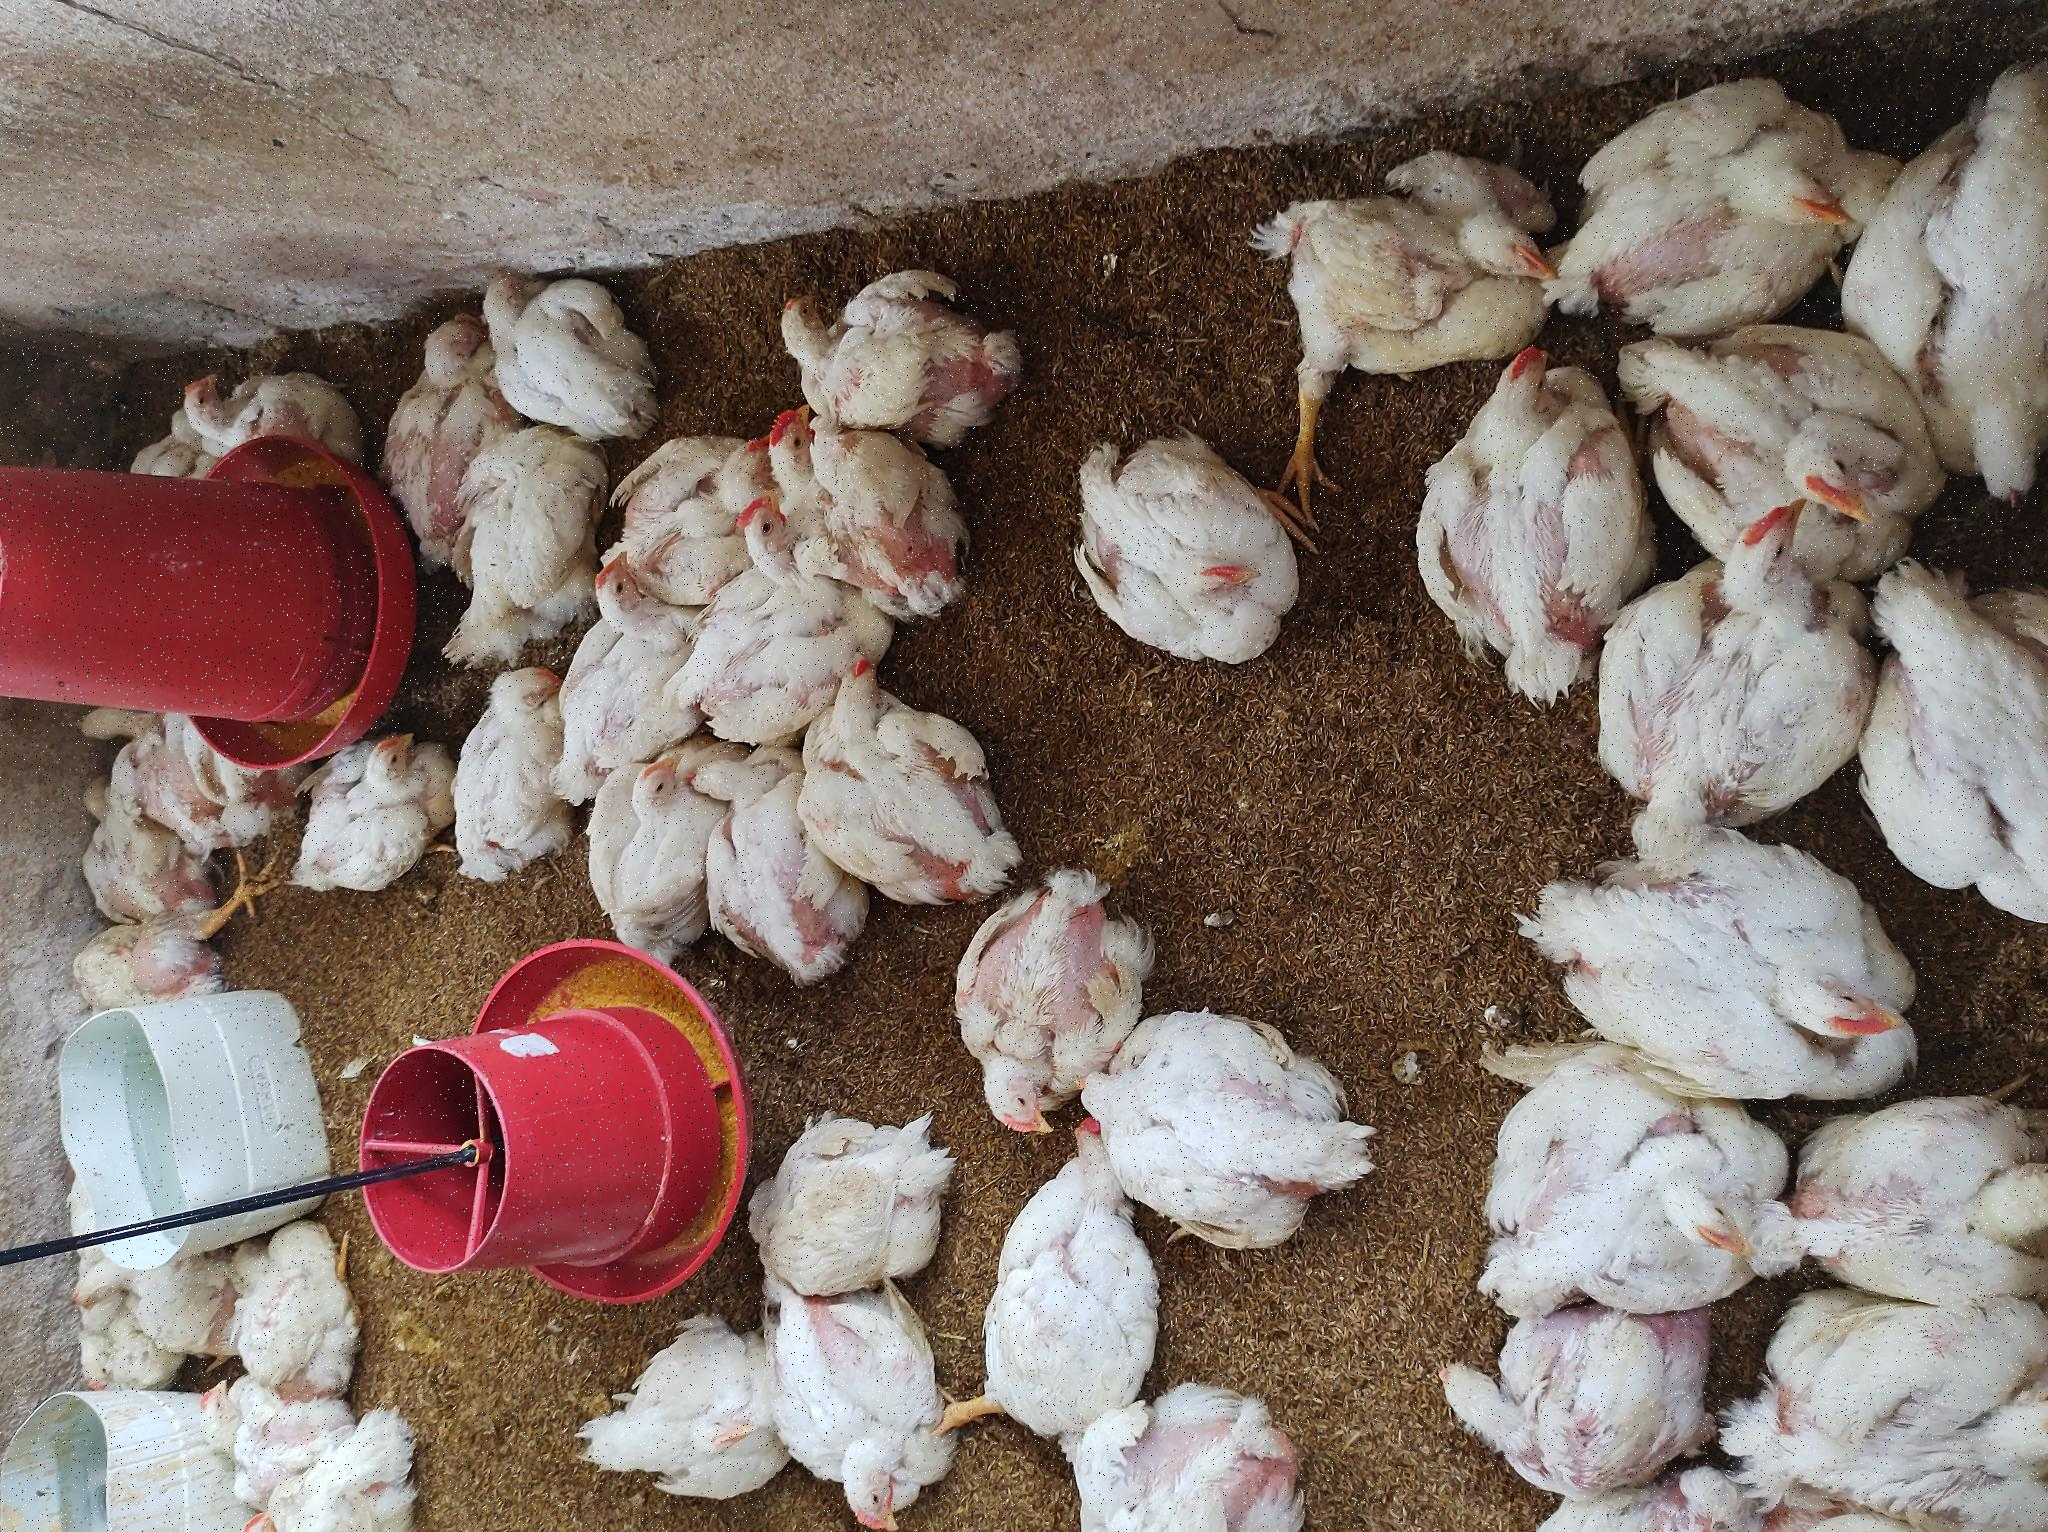Pollos: (286, 1080, 521, 1373), (857, 1080, 1134, 1308), (1178, 1250, 1393, 1532), (82, 975, 410, 1155), (629, 784, 869, 1015), (402, 957, 664, 1152), (2, 756, 240, 962), (888, 409, 1104, 621), (240, 745, 447, 953), (1105, 771, 1256, 1035), (849, 1411, 1179, 1532), (2, 1075, 167, 1315), (14, 587, 228, 769), (544, 682, 788, 837), (615, 290, 833, 451), (1088, 488, 1277, 658), (151, 209, 322, 385), (986, 373, 1234, 480), (648, 446, 870, 563), (2, 238, 129, 434), (819, 732, 1039, 843), (1055, 167, 1184, 349), (718, 71, 864, 229), (188, 1448, 463, 1532), (516, 60, 616, 283), (582, 589, 775, 703), (795, 568, 988, 677), (598, 68, 714, 240), (35, 1435, 232, 1532), (43, 185, 164, 282), (1051, 734, 1128, 832), (212, 74, 293, 159), (1017, 700, 1091, 772)
